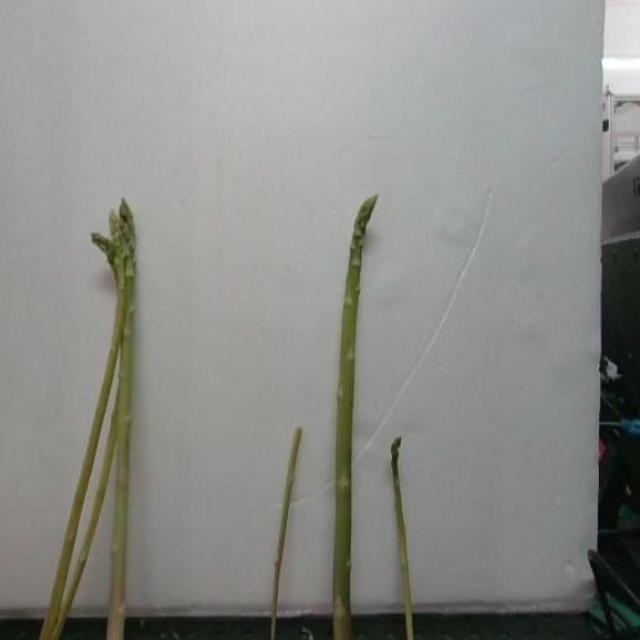aspargus: (334, 197, 378, 640), (105, 201, 141, 640)
